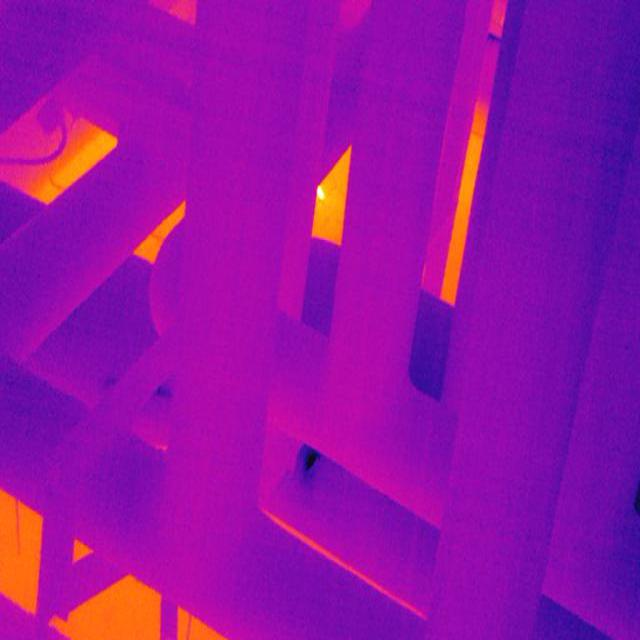leakage: (298, 437, 324, 475)
